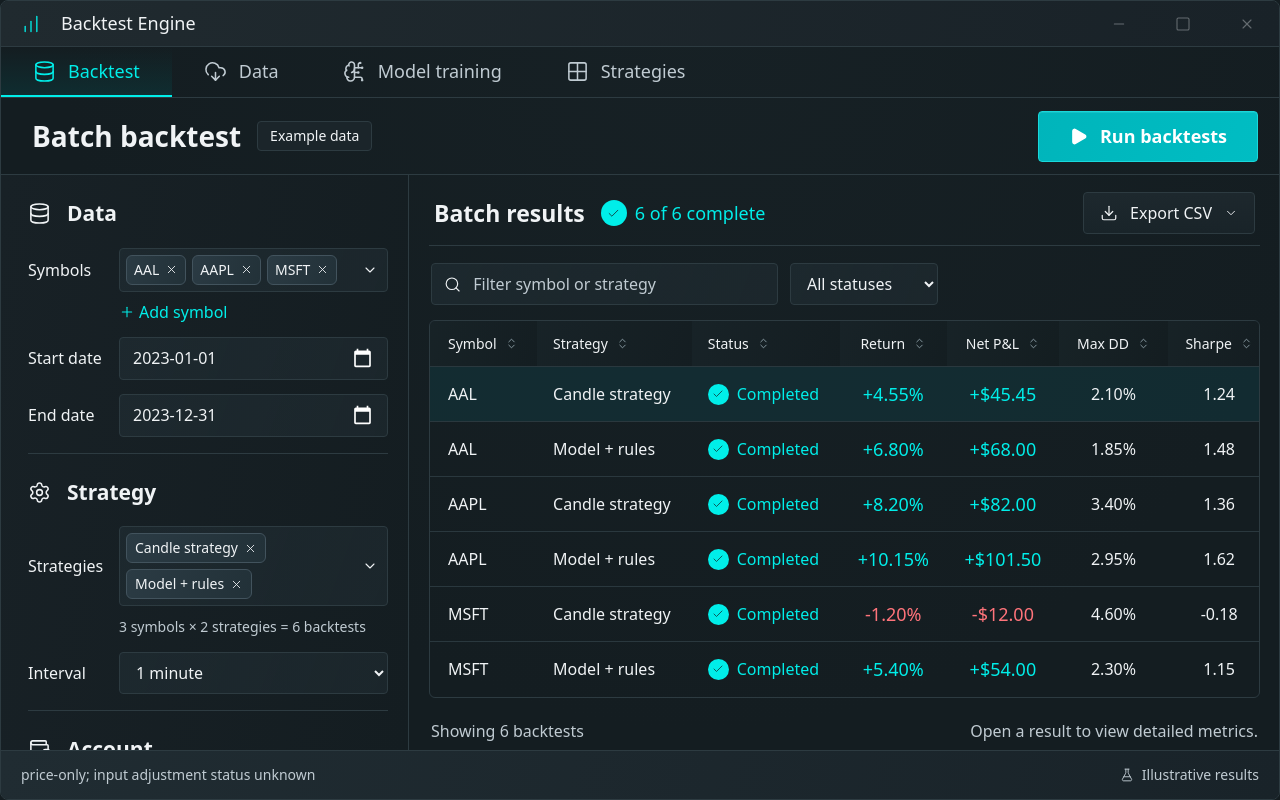
Test: configuration edits do not modify sample runs and execution is explicit
The image size is (1280, 800).
Click the button named "Remove AAL" at (172, 270), box [165,263,178,276]
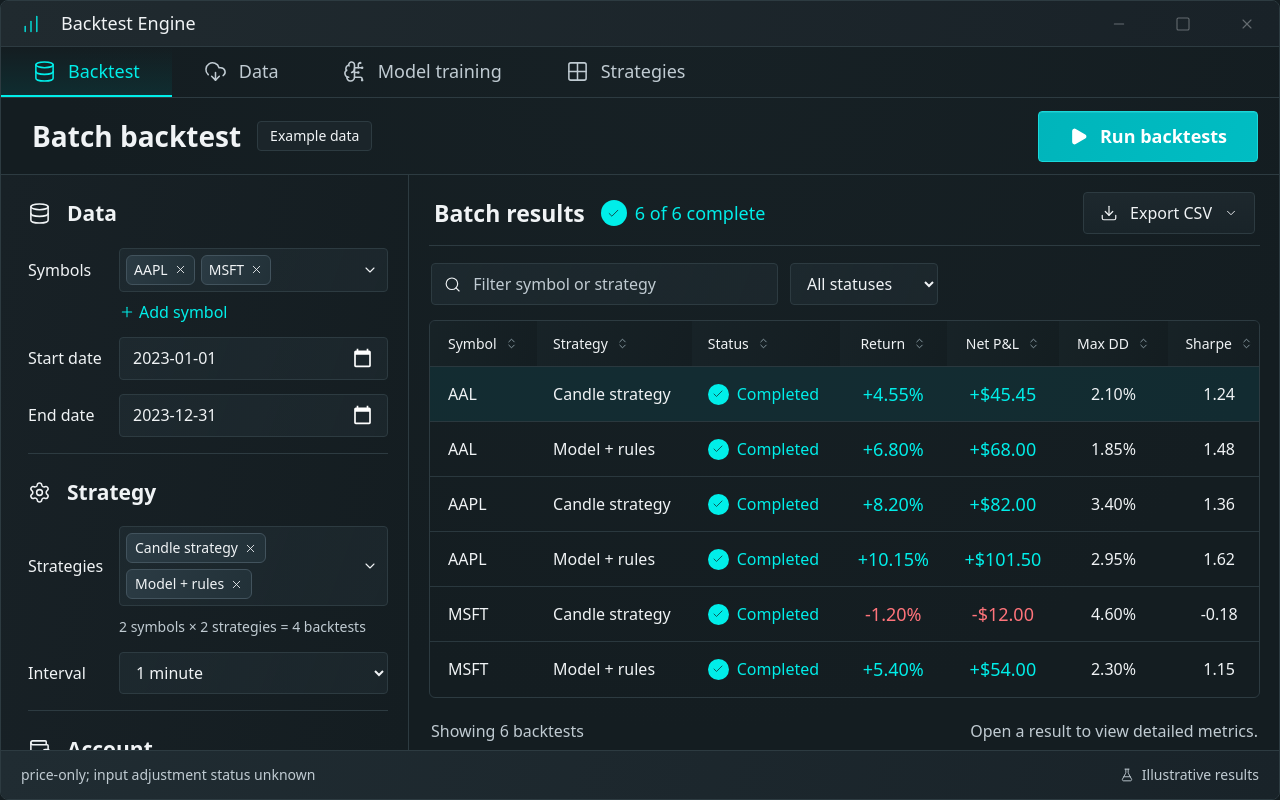
Result: the text "2 symbols × 2 strategies = 4 backtests" is shown at [119,617,388,637]
Click the button "Run backtests" at (1148, 136), box [1038,110,1258,162]
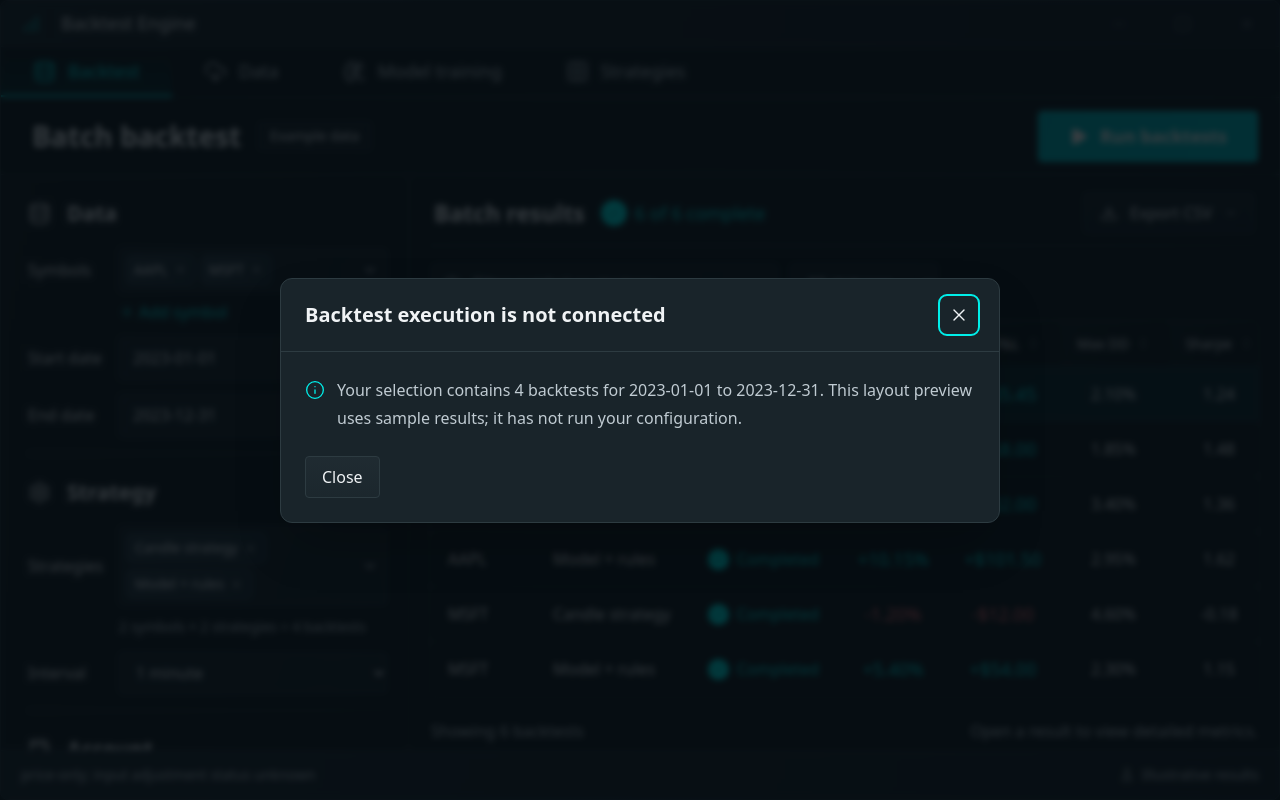
Result: the heading "Backtest execution is not connected" is shown at [305,300,666,328]
Result: the text "Your selection contains 4 backtests" is shown at [337,378,972,428]
Click the button "Close" at (342, 476), box [305,456,380,498]
(page scrolled)
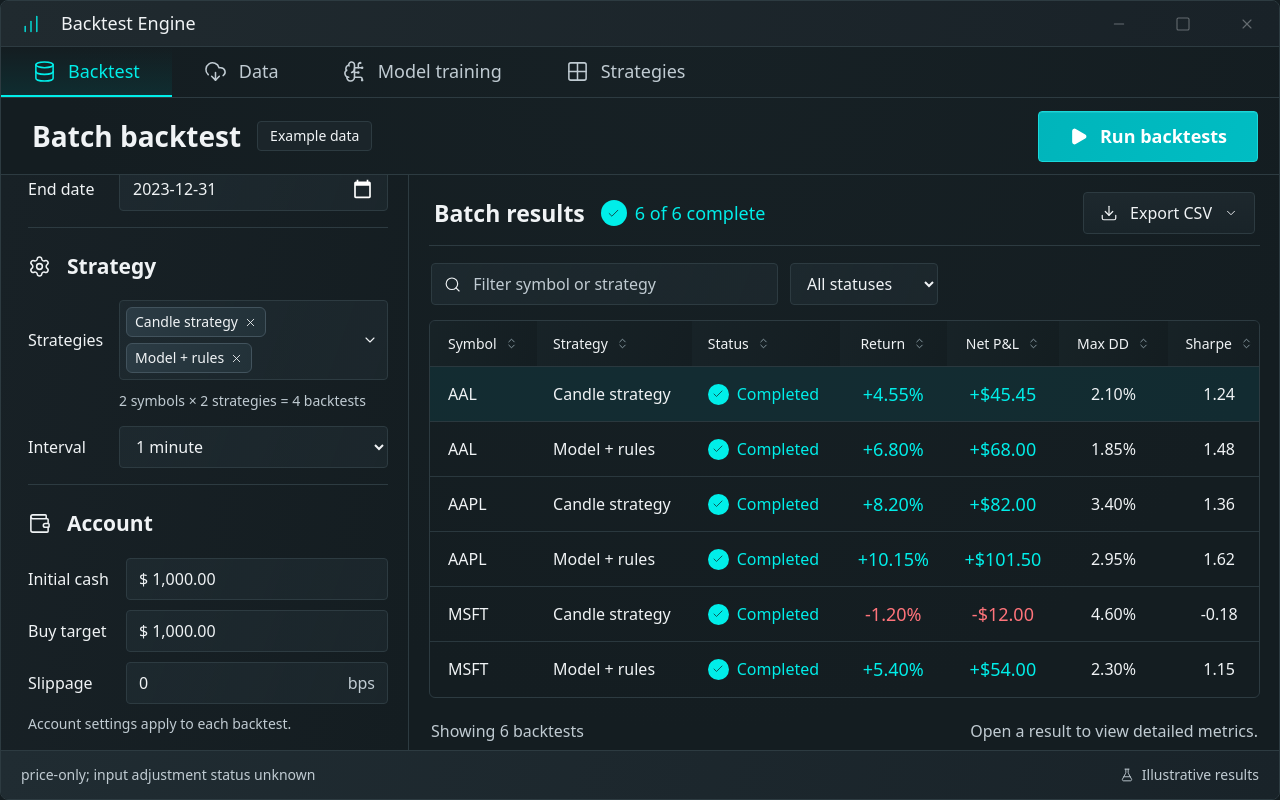
Replace the text in the field named "Buy target" with "0" at (264, 630), box [152,618,375,642]
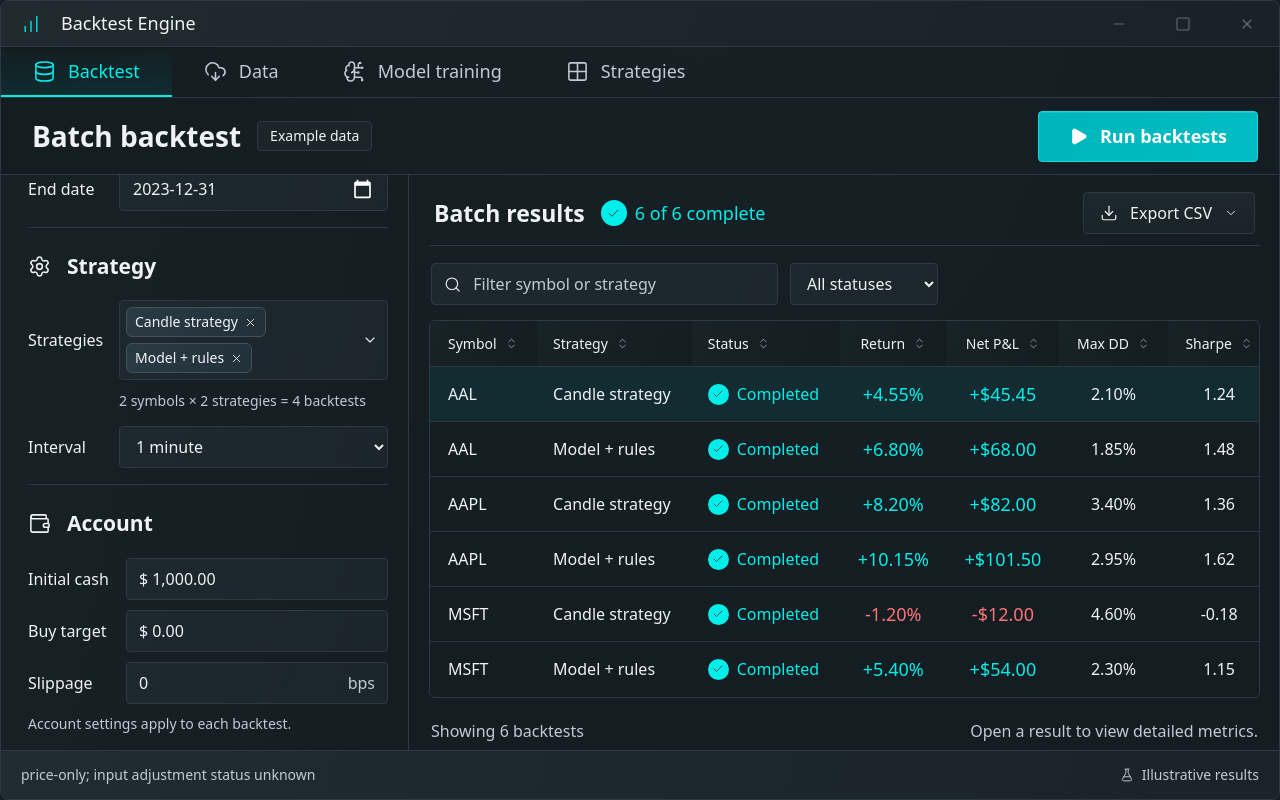
Click the button "Run backtests" at (1148, 136), box [1038,110,1258,162]
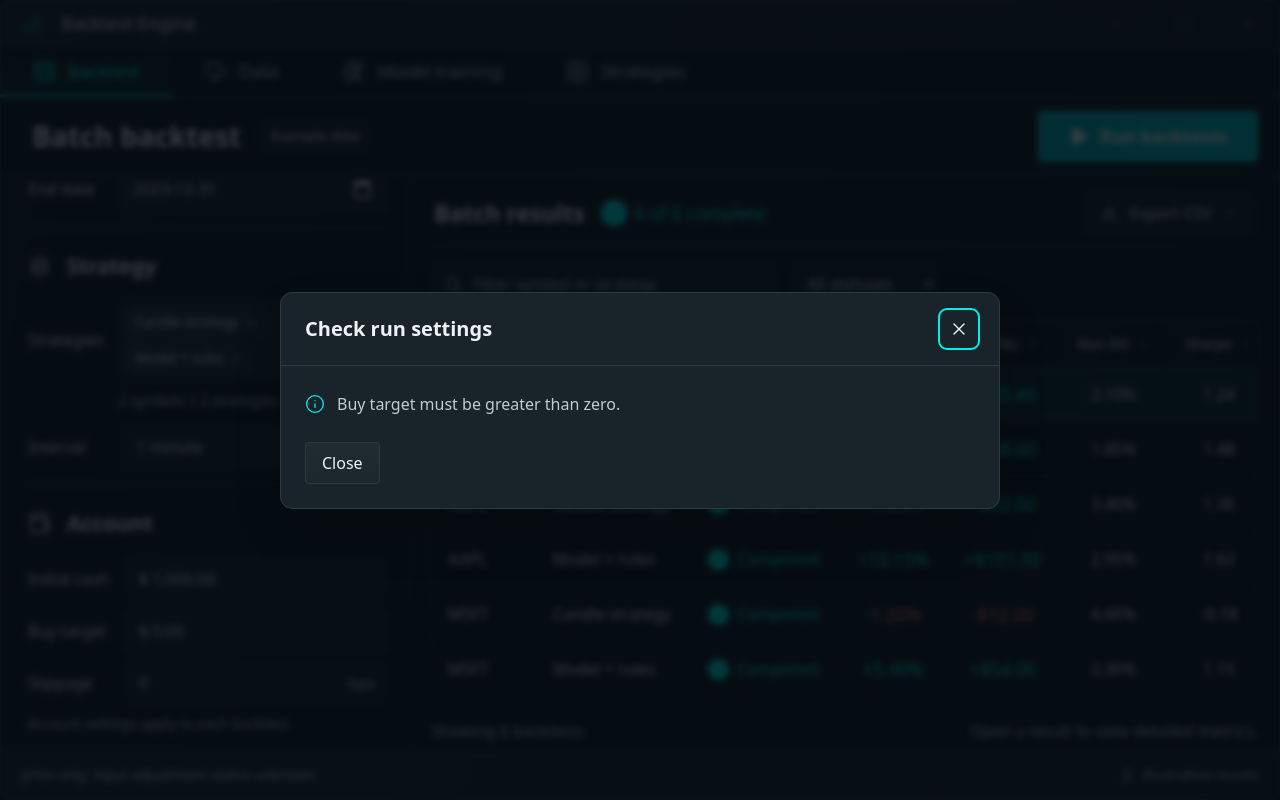
Result: the text "Buy target must be greater than zero." is shown at [337,390,620,418]
